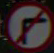Don't turn right: (12, 2, 53, 50)
